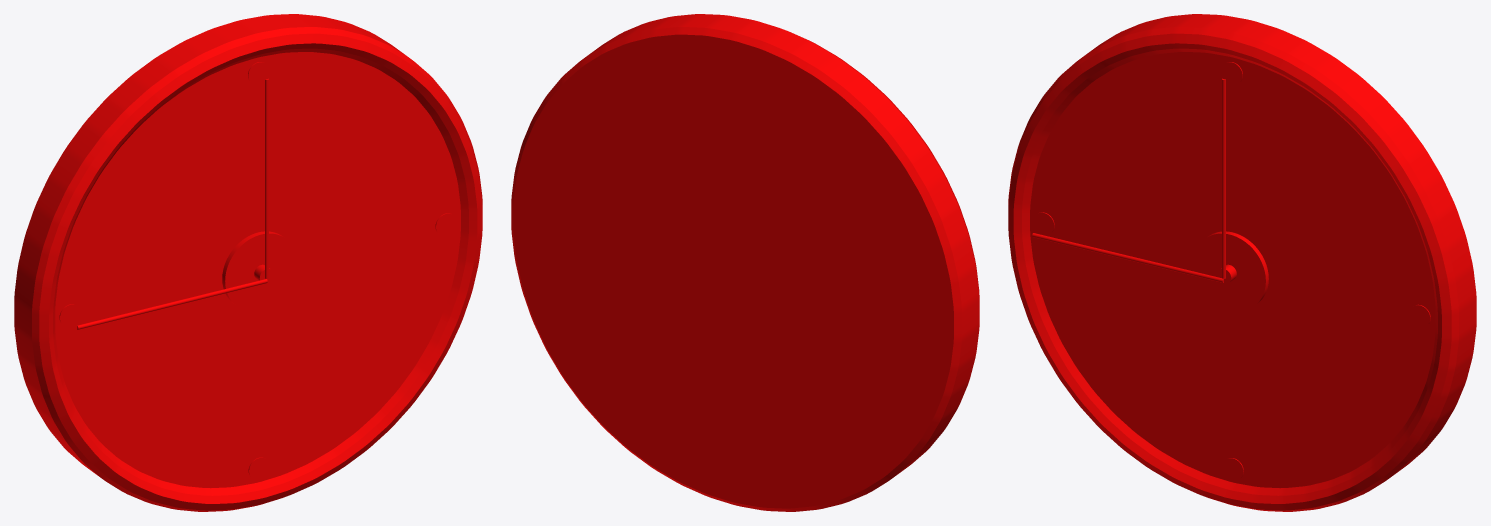
Rendered from Clock_high.fbx.
The picture shows the model from 3 angles, left to right: view 1: azimuth 30°, elevation 25°; view 2: azimuth 150°, elevation 25°; view 3: azimuth 330°, elevation 25°; orthographic projection.
Parts seen in each view (by area): view 1: Clock_high; view 2: Clock_high; view 3: Clock_high.
Boxes of the visible parts, <box> form: Clock_high: <box>14,14,482,511</box>; Clock_high: <box>511,14,979,511</box>; Clock_high: <box>1008,14,1476,511</box>.
Bounding box in the file's own units: 2 × 2 × 0.2442.
